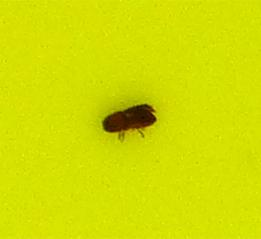Coleoptera: (100, 100, 161, 139)
